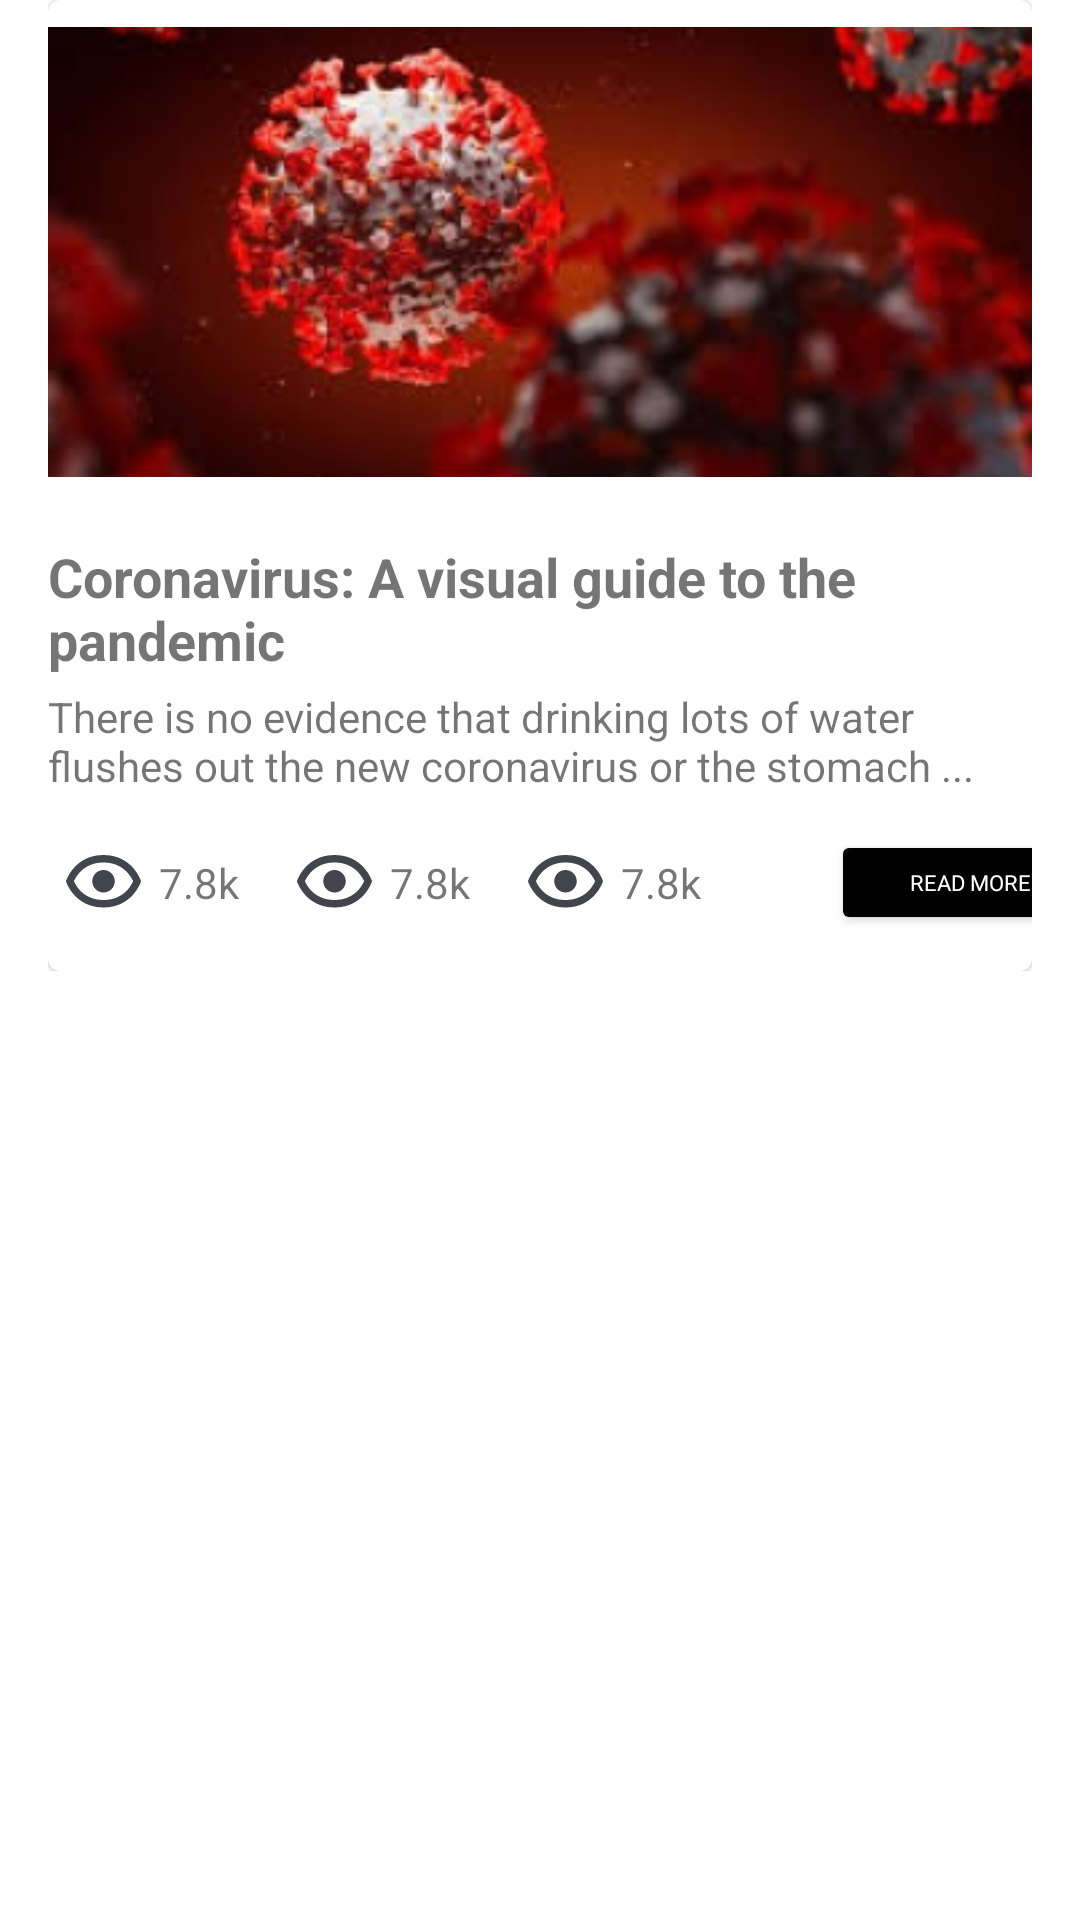

Icon bounding boxes for this 1080w x 1920h phone screenshot, format box=[x1, y1, x2, y2]:
show: box=[66, 855, 141, 908]
